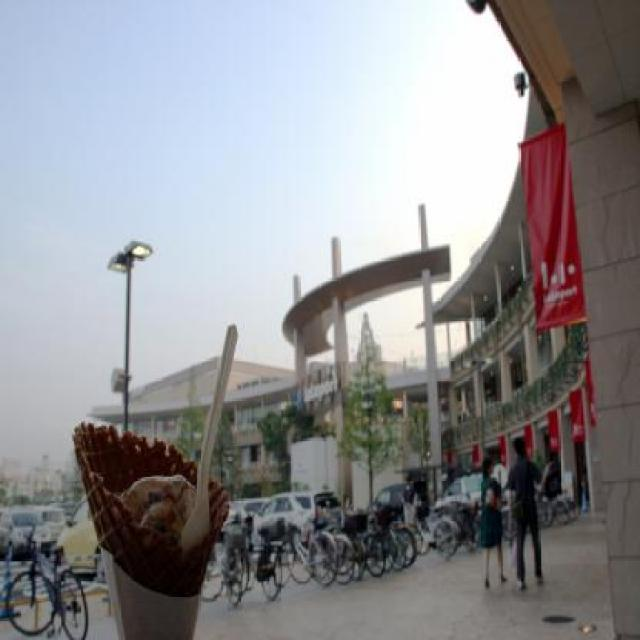Ice cream: (101, 394, 225, 618)
